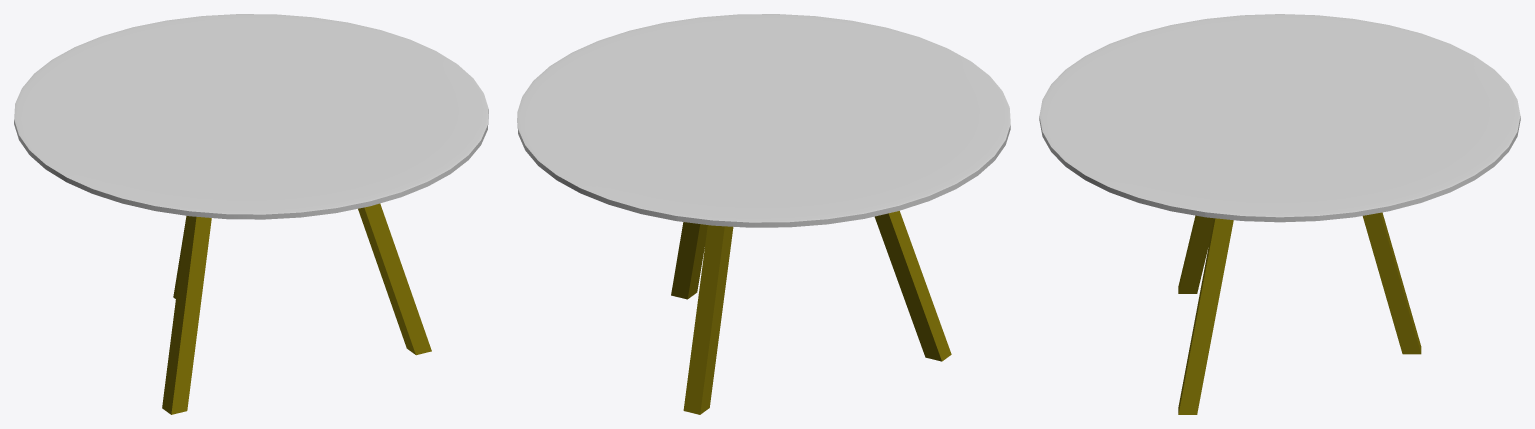
File: MESA LOBBY.fbx
The picture shows the model from 3 angles, left to right: view 1: azimuth 30°, elevation 25°; view 2: azimuth 150°, elevation 25°; view 3: azimuth 270°, elevation 25°; orthographic projection. The views are drawn at different scales.
Visible parts, largest first — view 1: Mesa; view 2: Mesa; view 3: Mesa.
Boxes of the visible parts, box(x1,y1,x2,y2) form: Mesa: box(14, 14, 488, 414); Mesa: box(517, 14, 1010, 414); Mesa: box(1039, 14, 1520, 414).
Bounding box in the file's own units: 38.87 × 20.99 × 38.87.
